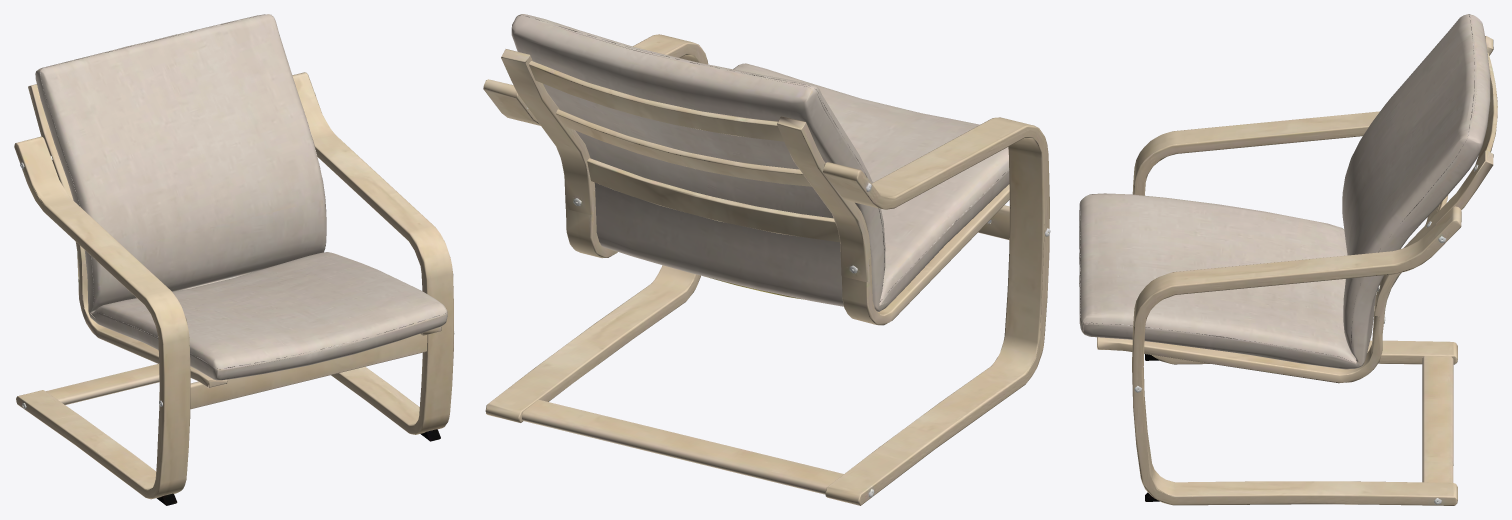
The picture shows the model from 3 angles, left to right: view 1: azimuth 30°, elevation 25°; view 2: azimuth 150°, elevation 25°; view 3: azimuth 270°, elevation 25°; orthographic projection. The views are drawn at different scales.
Visible parts, largest first — view 1: Mesh_0, Mesh_1; view 2: Mesh_0; view 3: Mesh_0, Mesh_1.
Boxes of the visible parts, bbox=[...] form: Mesh_0: bbox=[14, 14, 454, 505]; Mesh_1: bbox=[40, 14, 445, 369]; Mesh_0: bbox=[483, 14, 1050, 505]; Mesh_0: bbox=[1079, 14, 1497, 505]; Mesh_1: bbox=[1079, 14, 1474, 361].
Size of the model in its own units: 0.6634 by 0.7005 by 0.7494.
Materials: 2 (2 with a texture image).
